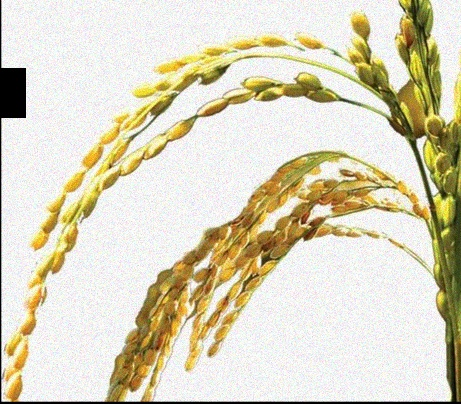rice: (4, 5, 413, 398)
